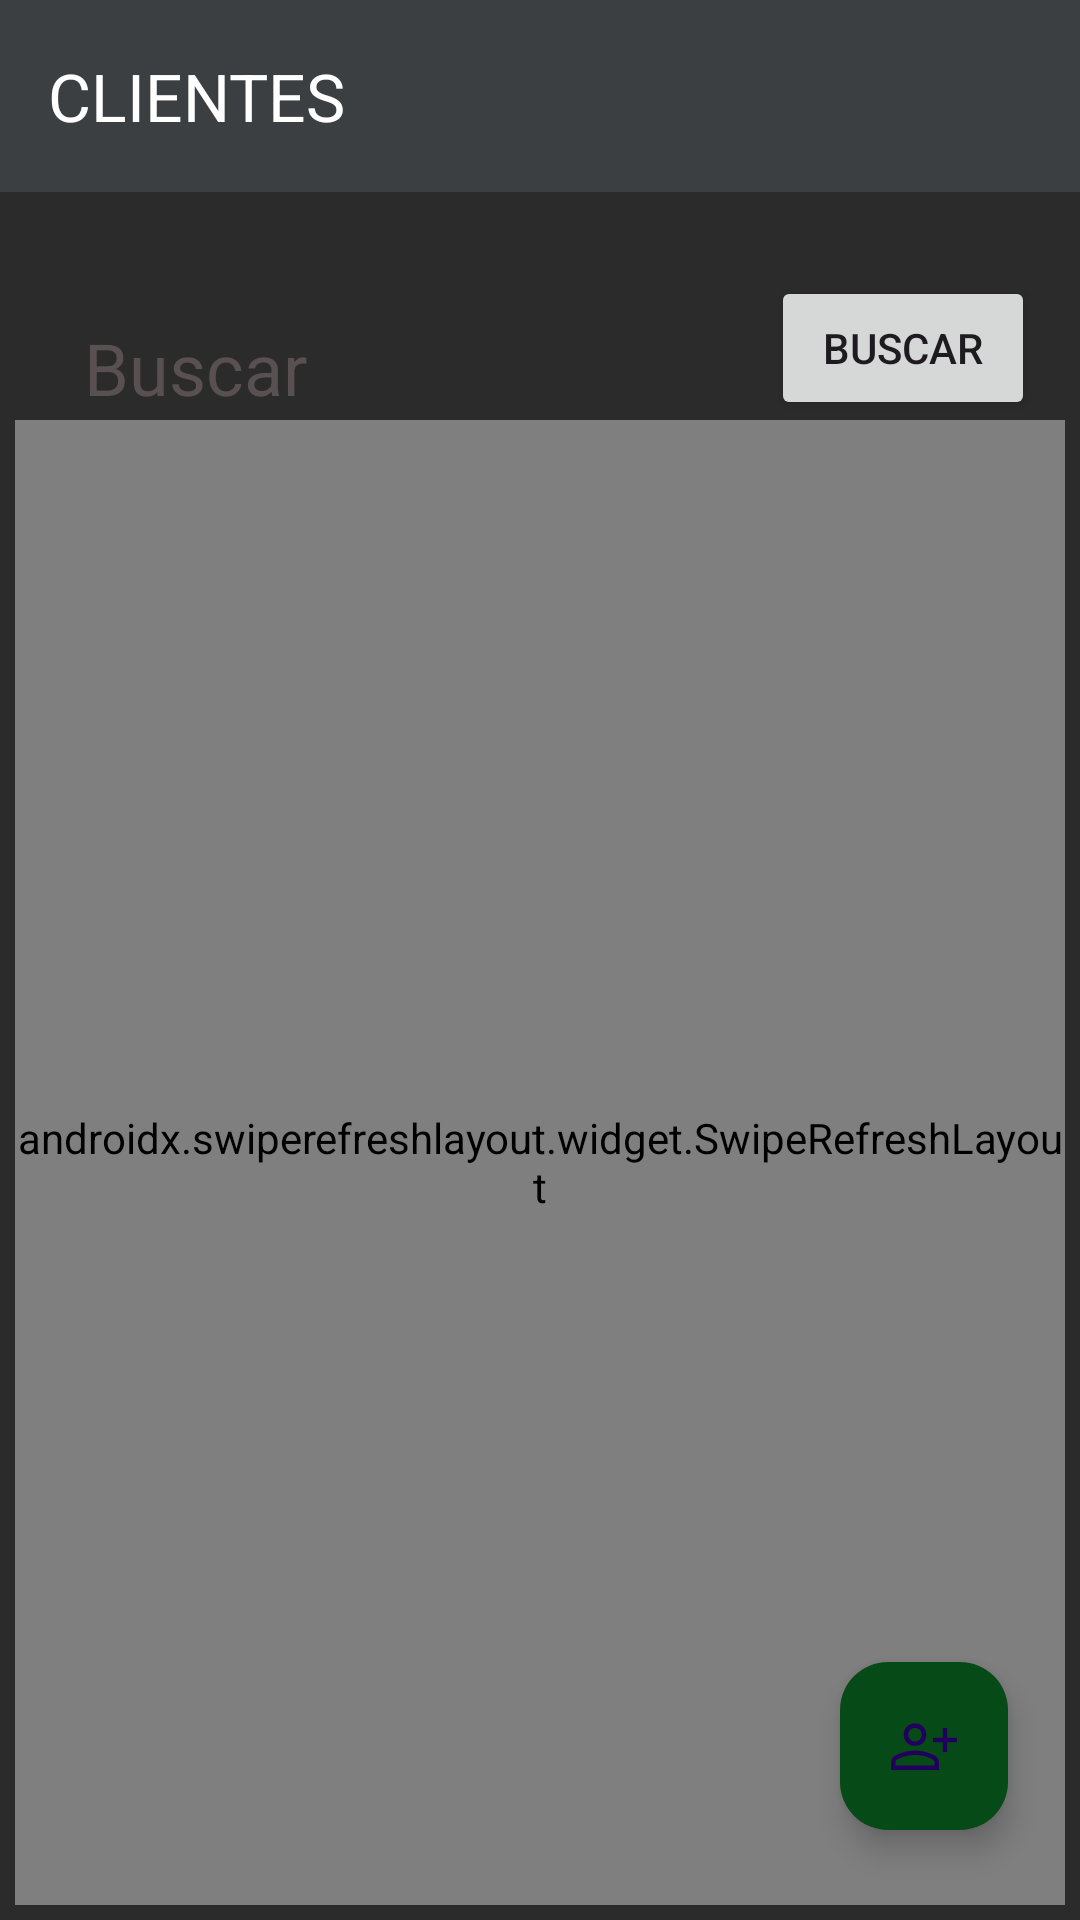

Where to tap for icons on this 1080 × 1920 app screen, as [x,y]:
person add: [924,1746]
